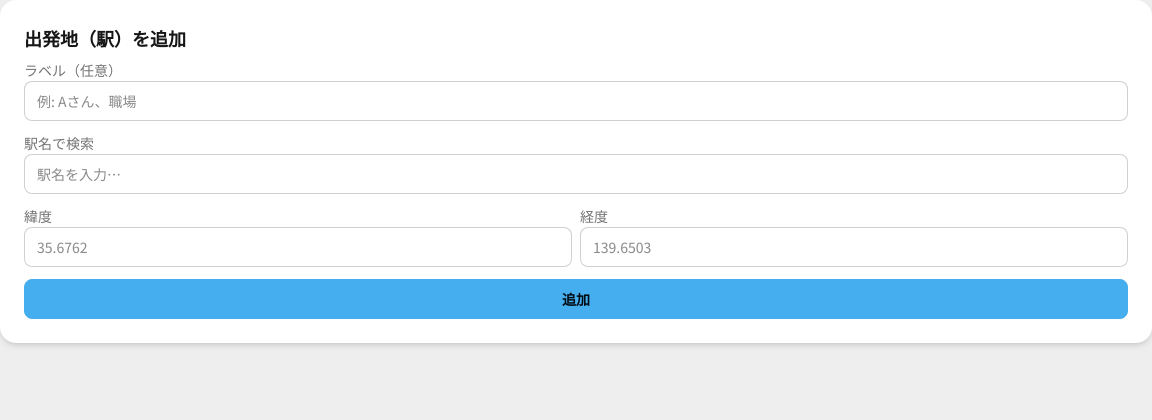
LocationForm › station search › should show loading spinner during search
The width and height of the screenshot is (1152, 420).
Type "東京" into the field named "駅名検索".
click(576, 174); type("東京")  # box [24, 154, 1128, 194]
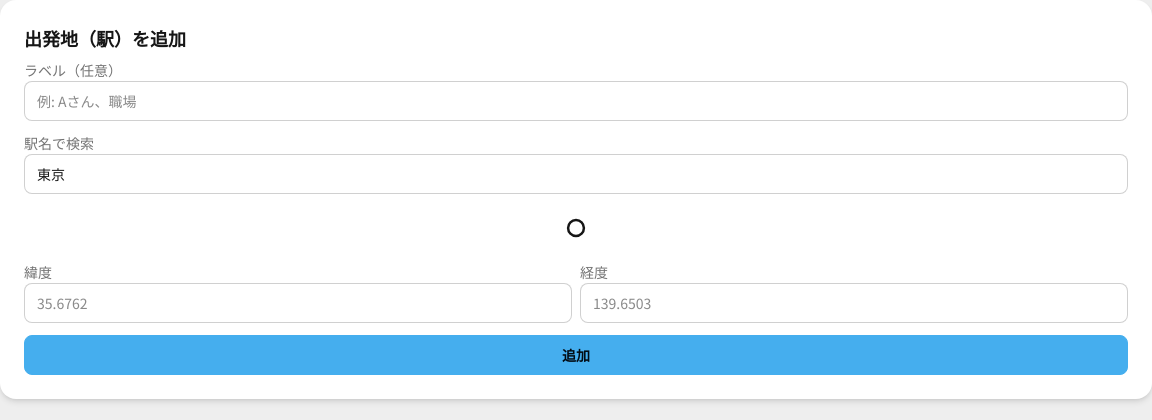
Now the element named "検索中" is shown, box [566, 218, 586, 238]
